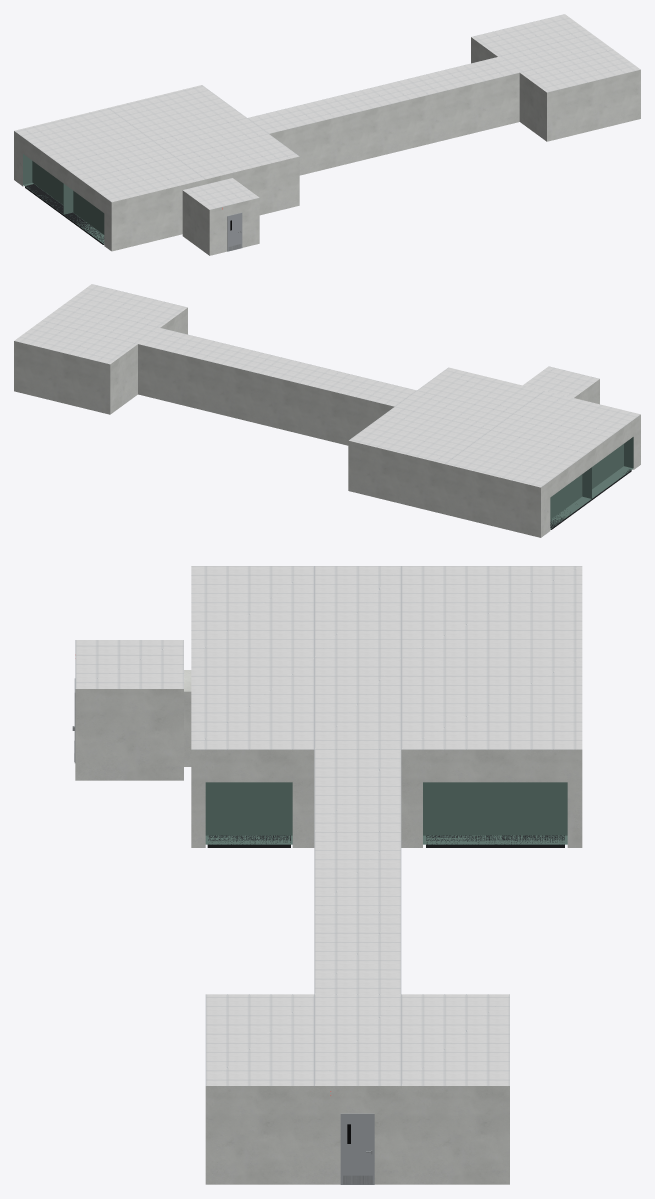
Rendered from b2_entry.glb.
3 views of the same model, one above another, from view 1: azimuth 30°, elevation 25°; view 2: azimuth 150°, elevation 25°; view 3: azimuth 270°, elevation 25° (orthographic). The views are drawn at different scales.
Visible parts, largest first — view 1: Ceiling_Tile, Wall_Lab, Locker_Paint, Paint_Dark, DoorLeaf_laboratory; view 2: Ceiling_Tile, Wall_Lab, Locker_Paint; view 3: Ceiling_Tile, Wall_Lab, Locker_Paint, DoorLeaf_checkpoint_1, Paint_Dark.
Part boxes in pixels (x1,y1,x2,y2): Ceiling_Tile: (14,14,640,209); Wall_Lab: (14,37,640,255); Locker_Paint: (23,154,104,243); Paint_Dark: (25,184,104,244); DoorLeaf_laboratory: (227,212,242,251); Ceiling_Tile: (14,284,640,487); Wall_Lab: (14,308,640,537); Locker_Paint: (550,437,633,528); Ceiling_Tile: (75,566,582,1085); Wall_Lab: (75,670,582,1184); Locker_Paint: (205,782,567,844); DoorLeaf_checkpoint_1: (340,1113,374,1184); Paint_Dark: (207,835,564,847).
Bounding box in the file's own units: 34.08 × 3 × 14.07.
27 materials, 10 textured.
